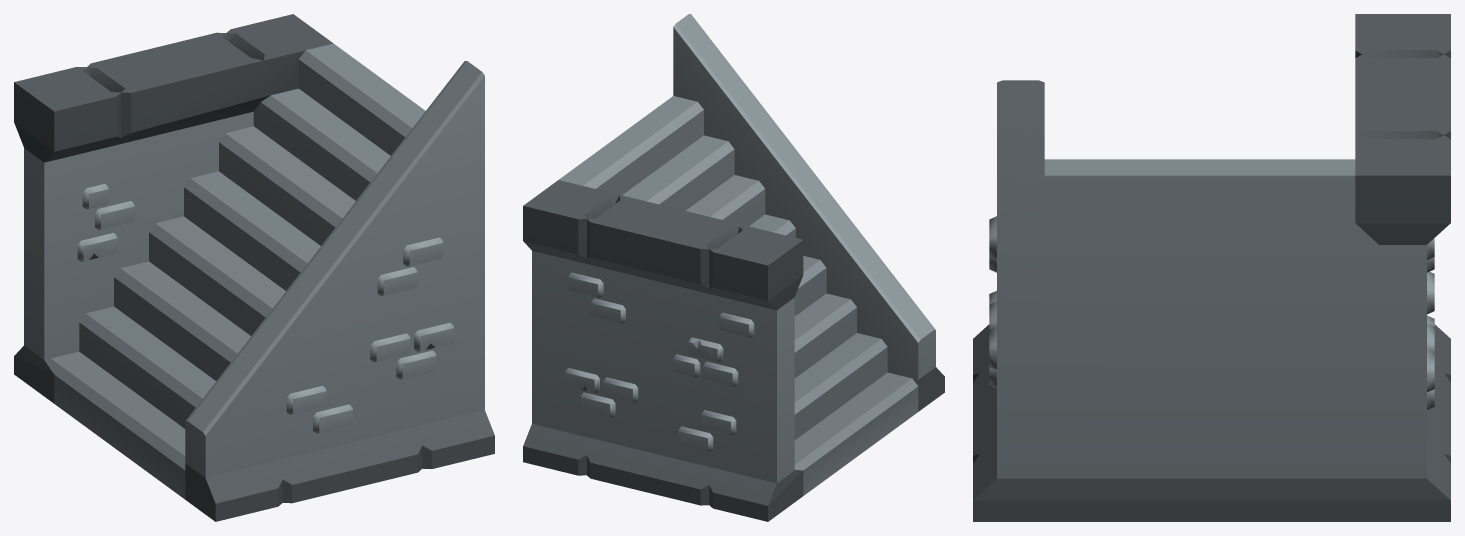
Rendered from stairs_wall_right.obj.
The picture shows the model from 3 angles, left to right: view 1: azimuth 30°, elevation 25°; view 2: azimuth 150°, elevation 25°; view 3: azimuth 270°, elevation 25°; orthographic projection. The views are drawn at different scales.
Visible parts, largest first — view 1: stairs_wall_right; view 2: stairs_wall_right; view 3: stairs_wall_right.
Part boxes in pixels (x1,y1,x2,y2): stairs_wall_right: [14, 14, 494, 521]; stairs_wall_right: [523, 14, 944, 521]; stairs_wall_right: [973, 14, 1450, 521].
Size of the model in its own units: 4 by 5.1 by 5.
Materials: 1 (1 with a texture image).
